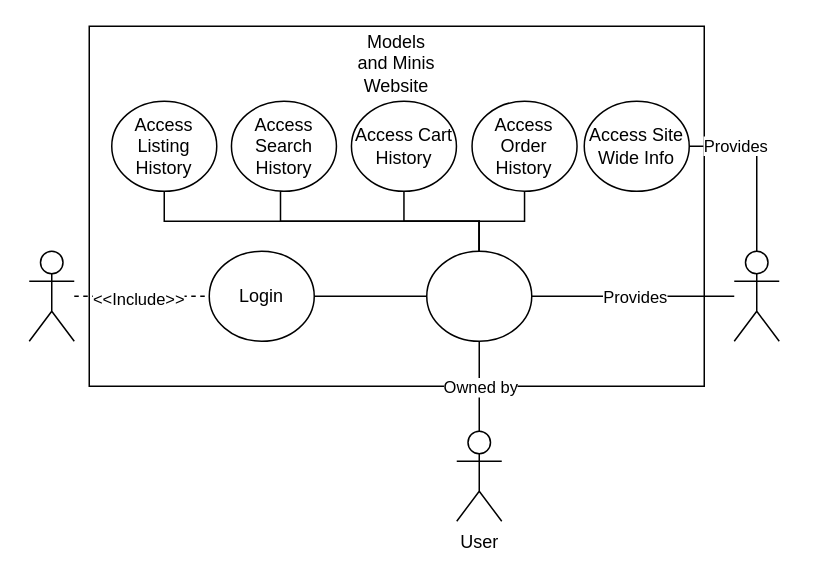
The diagram is 821 pixels wide and 579 high, and some of its shapes have lost their labels. The shapes that lost their labels are listed below. From the top down, each one's centre as x and y in pixels, then its label:
point (51, 295): Admin
point (478, 295): Check Account Info
point (756, 295): Database
